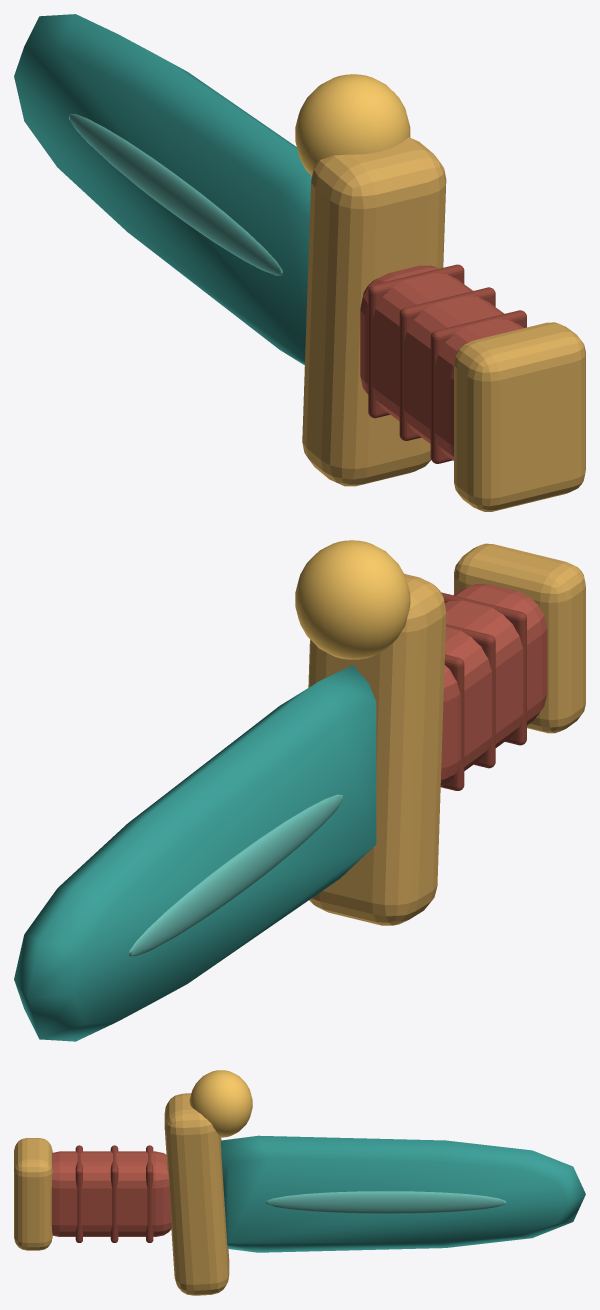
File: toy_sword.glb
The picture shows the model from 3 angles, top to bottom: view 1: azimuth 30°, elevation 25°; view 2: azimuth 150°, elevation 25°; view 3: azimuth 270°, elevation 25°; orthographic projection. The views are drawn at different scales.
Visible parts, largest first — view 1: RoundedToyBlade, Rounded crossguard, Molded pommel, Flattened molded grip, _MeshInstance3D_3, MoldedBladeRib, Recess grip seam.002, Recess grip seam.001, Recess grip seam; view 2: RoundedToyBlade, Rounded crossguard, Flattened molded grip, _MeshInstance3D_3, Molded pommel, MoldedBladeRib, Recess grip seam.002, Recess grip seam.001, Recess grip seam; view 3: RoundedToyBlade, Rounded crossguard, Flattened molded grip, _MeshInstance3D_2, Molded pommel, _MeshInstance3D_3, Recess grip seam.001, Recess grip seam, Recess grip seam.002.
Part boxes in pixels (box(x1,y1,x2,y2)): RoundedToyBlade: box(14, 14, 311, 365); Rounded crossguard: box(302, 137, 446, 486); Molded pommel: box(454, 322, 585, 511); Flattened molded grip: box(360, 265, 523, 460); _MeshInstance3D_3: box(295, 74, 410, 175); MoldedBladeRib: box(69, 114, 282, 275); Recess grip seam.002: box(430, 310, 526, 463); Recess grip seam.001: box(399, 287, 495, 440); Recess grip seam: box(368, 264, 464, 418); RoundedToyBlade: box(14, 665, 376, 1041); Rounded crossguard: box(308, 573, 446, 925); Flattened molded grip: box(440, 584, 547, 786); _MeshInstance3D_3: box(295, 540, 410, 659); Molded pommel: box(454, 543, 585, 733); MoldedBladeRib: box(129, 794, 342, 956); Recess grip seam.002: box(441, 592, 526, 745); Recess grip seam.001: box(446, 624, 495, 768); Recess grip seam: box(441, 654, 464, 790); RoundedToyBlade: box(221, 1135, 585, 1252); Rounded crossguard: box(164, 1093, 229, 1295); Flattened molded grip: box(51, 1151, 171, 1236); _MeshInstance3D_2: box(266, 1191, 505, 1213); Molded pommel: box(14, 1138, 52, 1250); _MeshInstance3D_3: box(189, 1070, 252, 1137); Recess grip seam.001: box(110, 1145, 118, 1242); Recess grip seam: box(146, 1145, 153, 1242); Recess grip seam.002: box(75, 1145, 82, 1242).
Size of the model in its own units: 0.13 by 0.4091 by 0.9925.
